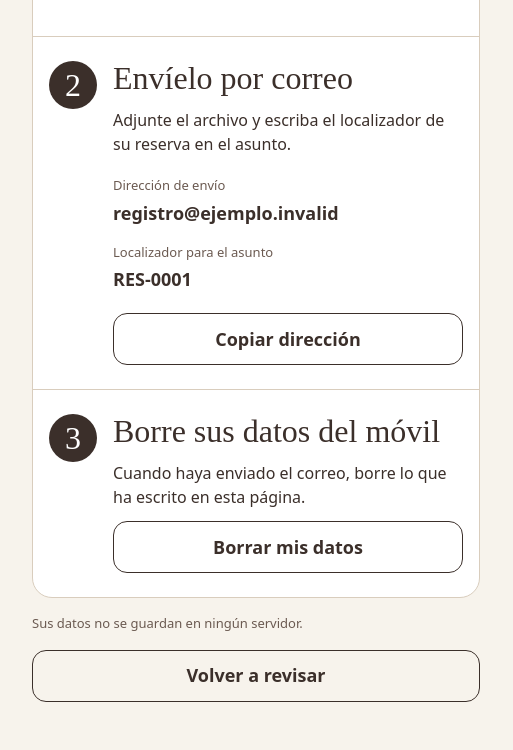
Test: App: Revisar y Final › borrar en Final vuelve a la bienvenida con el aviso
The image size is (513, 750).
(page scrolled)
Click the button with class "step__button" showing "Borrar mis datos" at (288, 547), box x1=113 y1=521 x2=463 y2=573
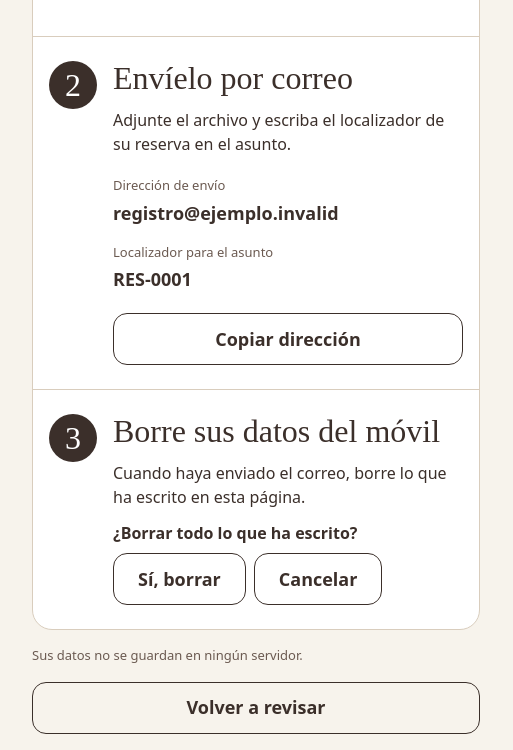
Click the button with class "confirm__yes" at (179, 579), box x1=113 y1=553 x2=246 y2=605
(page scrolled)
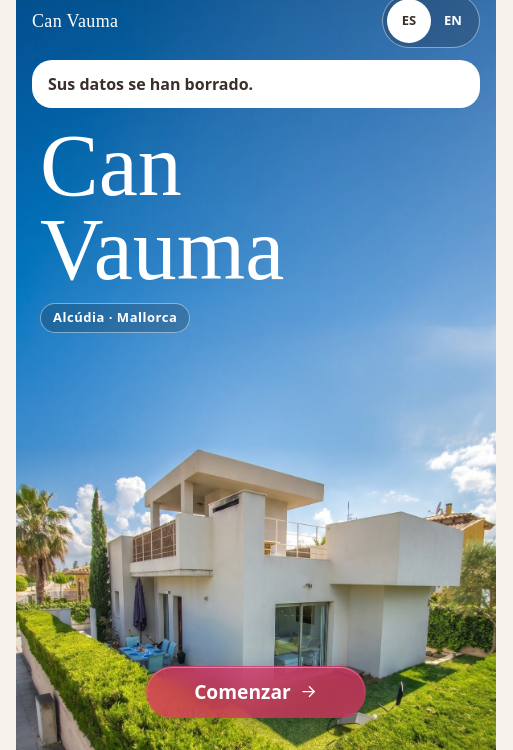
Now the text "Sus datos se han borrado." is shown, box x1=32 y1=60 x2=480 y2=108
